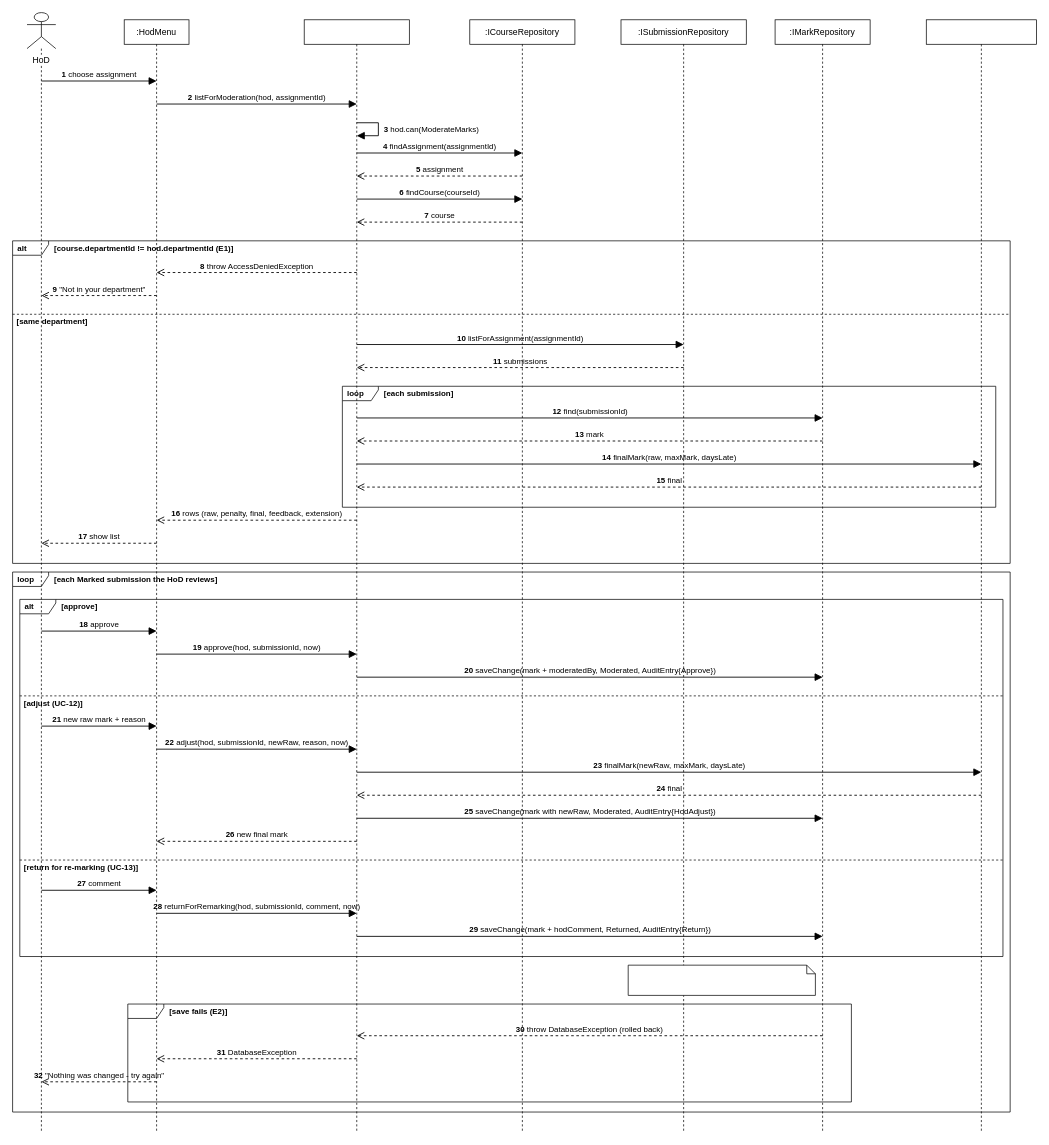
Image size: 1049x1145. Some labels were removed from this diagram. Here are the shapes that lost their labels. From the top down, the box of each, then its label:
(303, 19, 409, 1132): :ModerationService
(926, 19, 1036, 1132): :ILatePenaltyPolicy
(627, 964, 815, 995): saveChange writes the mark, the new state and the audit entry in ONE transaction
(127, 1003, 851, 1102): opt
